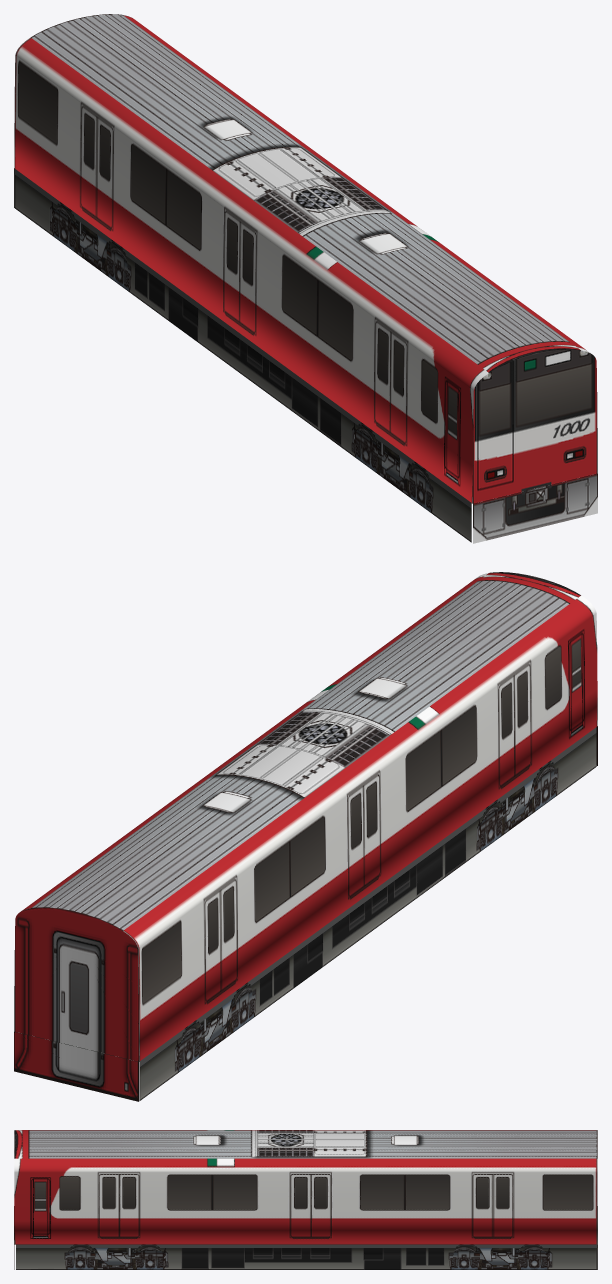
Rendered from car1.glb.
3 views of the same model, one above another, from view 1: azimuth 30°, elevation 25°; view 2: azimuth 150°, elevation 25°; view 3: azimuth 270°, elevation 25° (orthographic). The views are drawn at different scales.
Visible parts, largest first — view 1: keikyu-1000-car1; view 2: keikyu-1000-car1; view 3: keikyu-1000-car1.
Boxes of the visible parts, x1,y1,x2,y2 form: keikyu-1000-car1: [14, 14, 597, 543]; keikyu-1000-car1: [14, 572, 597, 1101]; keikyu-1000-car1: [14, 1130, 597, 1269].
Size of the model in its own units: 2.83 by 3.77 by 18.03.
Materials: 9 (8 with a texture image).
